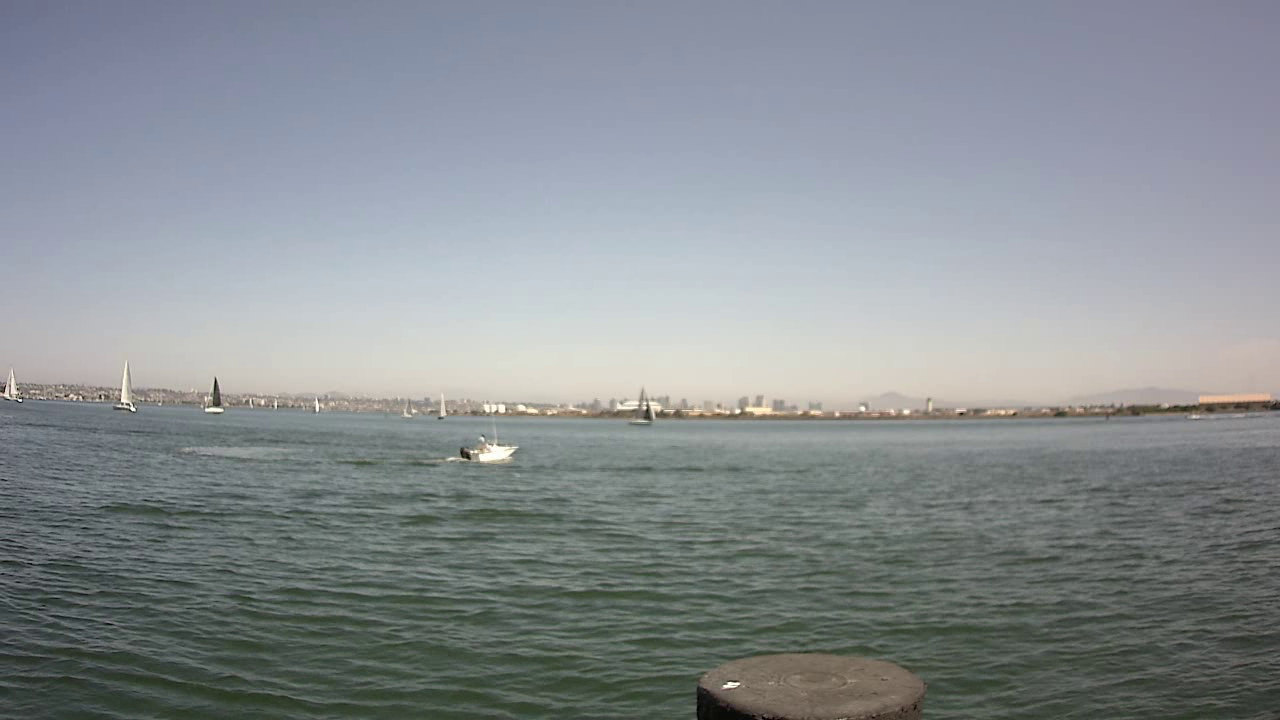target: (455, 422, 523, 472)
